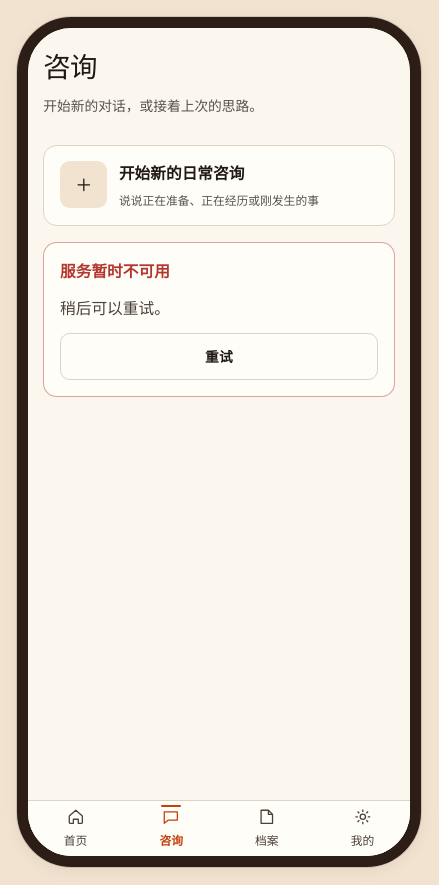
Scenario: 会话列表页 — 三态 › error：错误卡 + 重试；重试成功后渲染列表（不把失败显示成空列表）
Check: the text "服务暂时不可用" is shown, box [60,260,170,282]
Click the button "重试": (219, 357) [60,333,378,380]
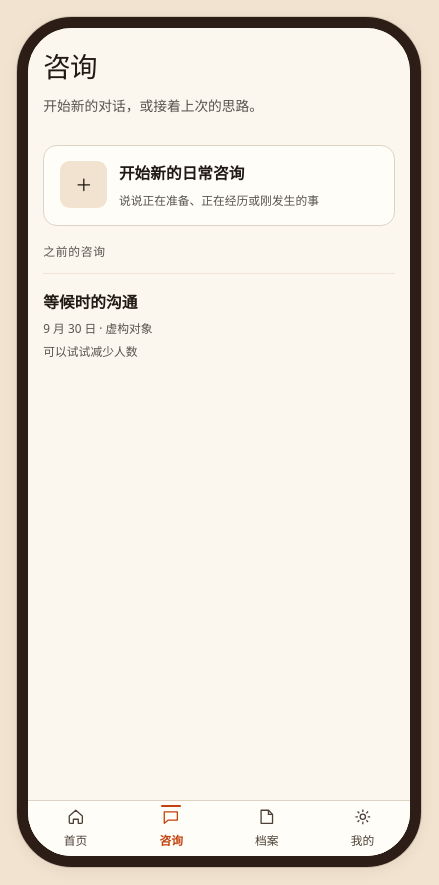
Check: the text "等候时的沟通" is shown, box [43,291,137,313]
